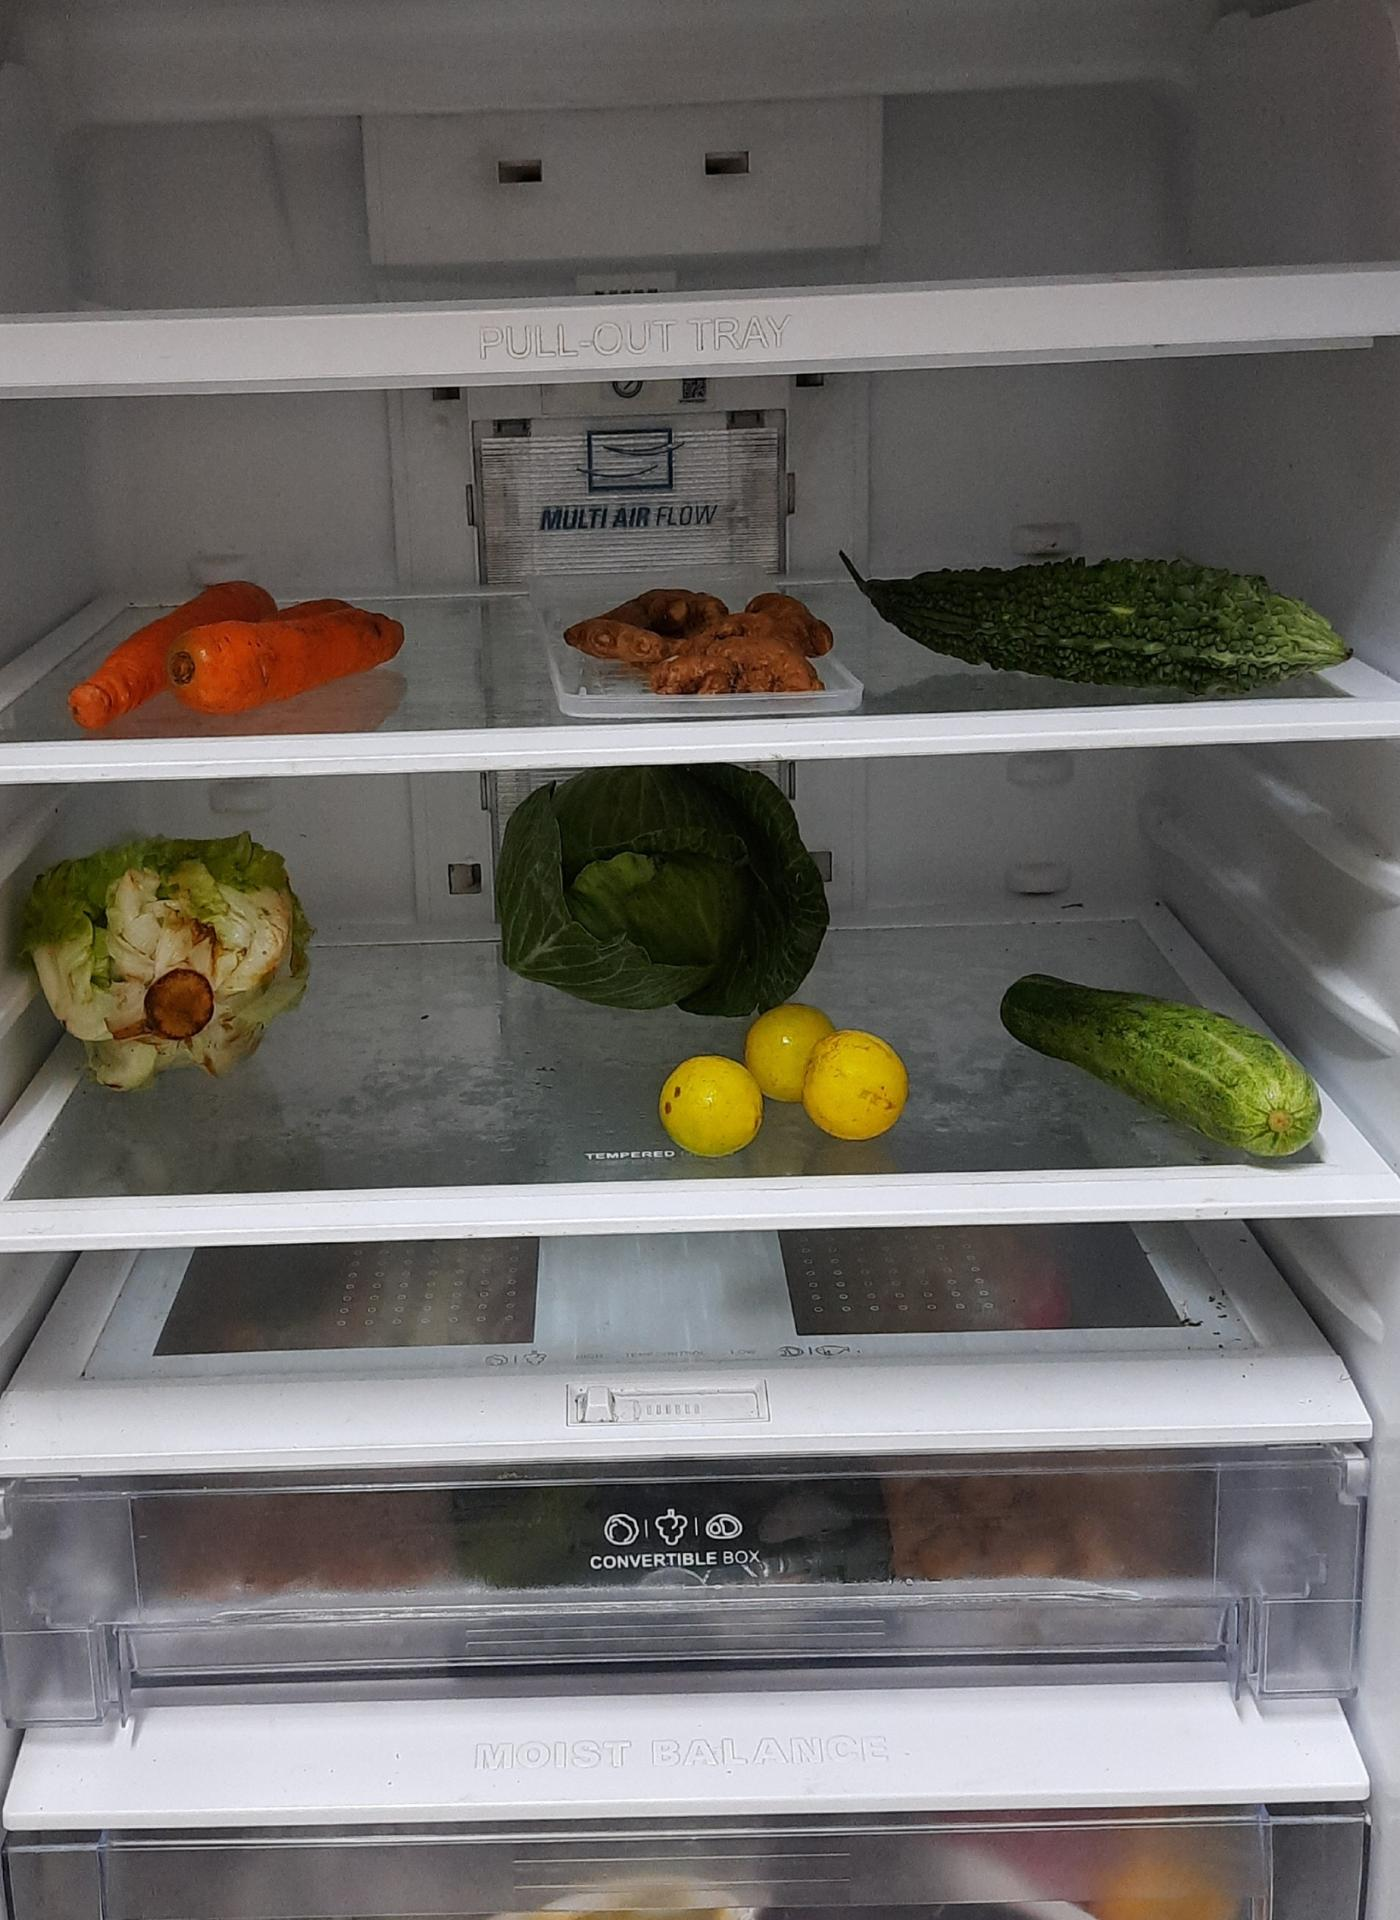bitter gourd: (844, 547, 1354, 689)
cabbage: (494, 769, 832, 1020)
carrots: (69, 578, 409, 729)
cucumber: (1006, 984, 1328, 1172)
ginger: (561, 586, 833, 699)
lemon: (742, 1000, 911, 1139), (656, 1051, 765, 1152)
lettuce: (25, 829, 316, 1085)
